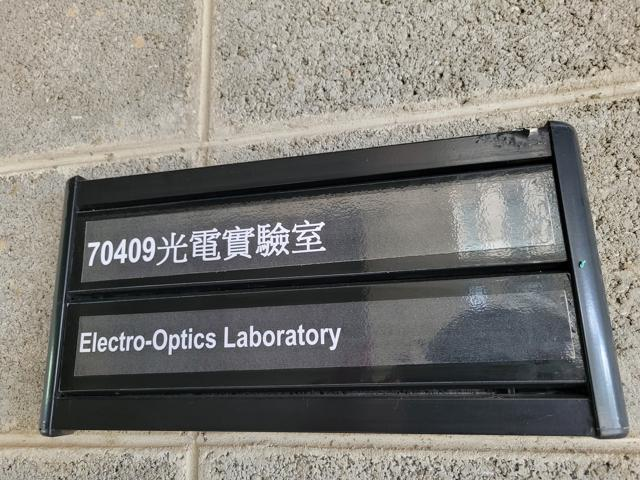doorplate: (32, 106, 635, 445)
